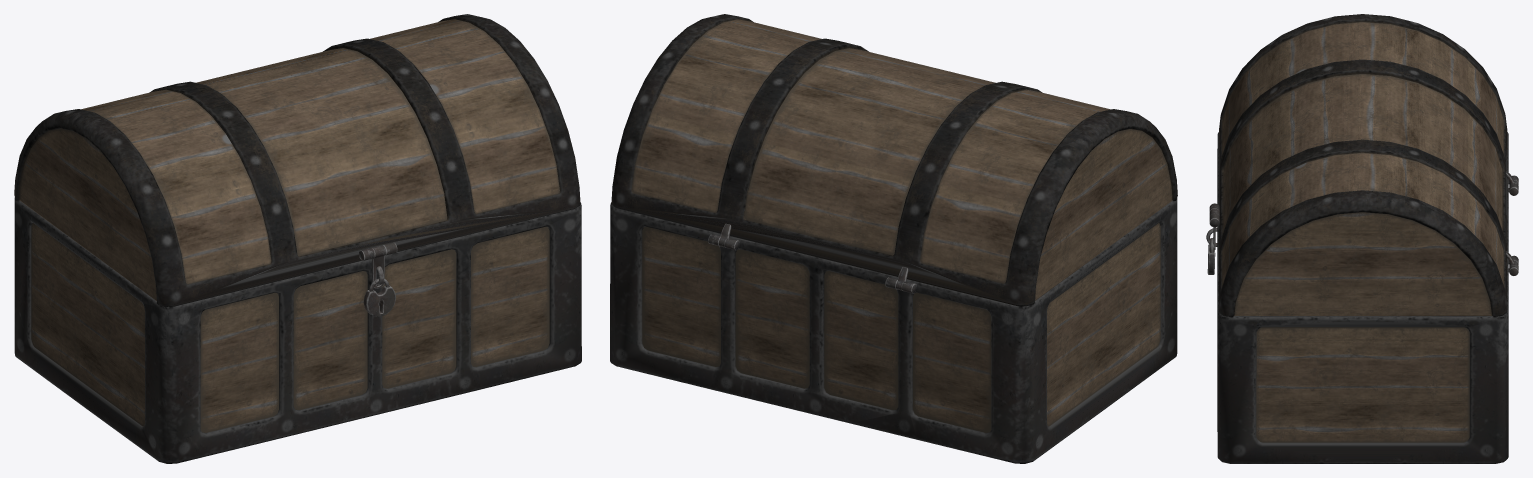
The model's file is Chest_Lod.fbx.
3 renders of one model, left to right at view 1: azimuth 30°, elevation 25°; view 2: azimuth 150°, elevation 25°; view 3: azimuth 270°, elevation 25°, orthographic. The views are drawn at different scales.
Parts seen in each view (by area): view 1: Chest_Top_LOD0, Chest_Bottom_LOD0.001, Lock_LOD0; view 2: Chest_Top_LOD0, Chest_Bottom_LOD0.001; view 3: Chest_Top_LOD0, Chest_Bottom_LOD0.001.
Part boxes in pixels (box(x1,y1,x2,y2)): Chest_Top_LOD0: box(14, 14, 580, 307); Chest_Bottom_LOD0.001: box(14, 197, 581, 463); Lock_LOD0: box(363, 285, 395, 316); Chest_Top_LOD0: box(611, 14, 1177, 306); Chest_Bottom_LOD0.001: box(610, 197, 1177, 463); Chest_Top_LOD0: box(1209, 14, 1518, 317); Chest_Bottom_LOD0.001: box(1206, 132, 1518, 463).
Size of what is drawn, in the model's own units: 0.8196 by 0.5257 by 0.5638.
